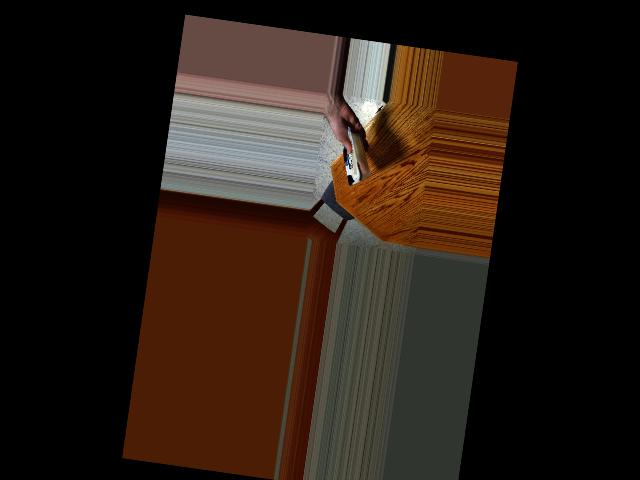cheese: (328, 130, 378, 186)
